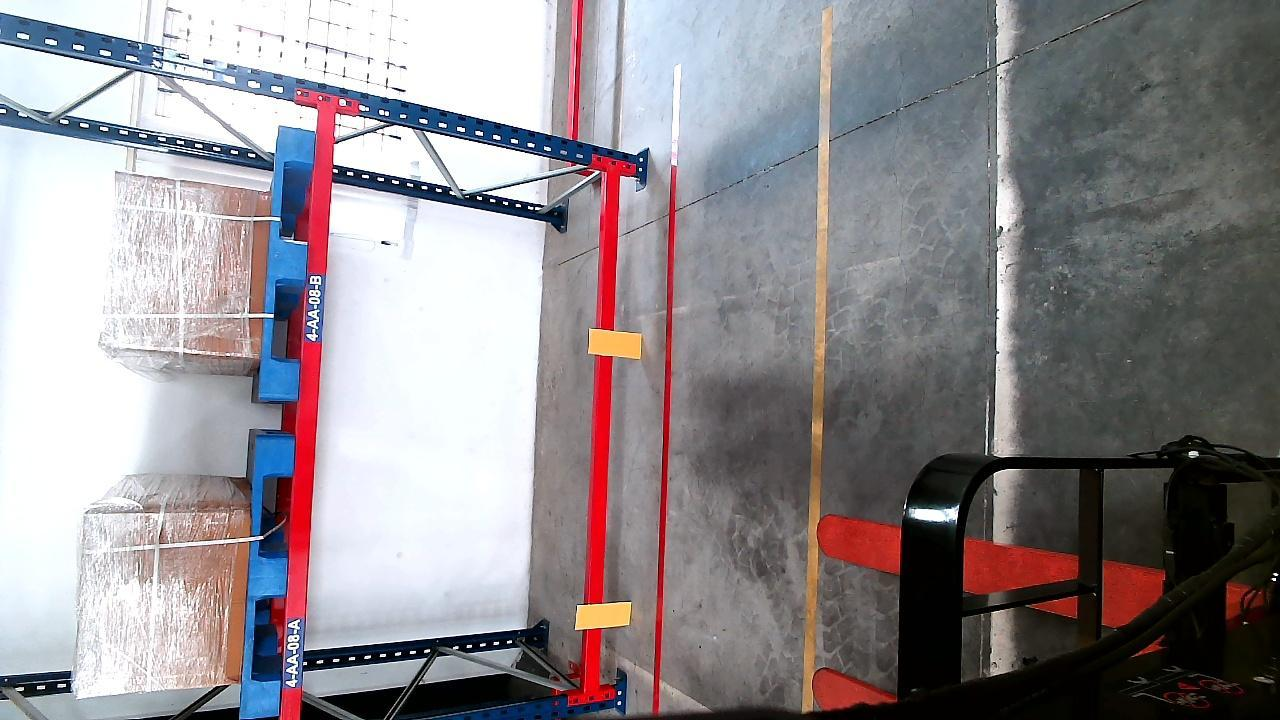red_line: (647, 158, 680, 711)
yellow_line: (805, 24, 835, 680)
